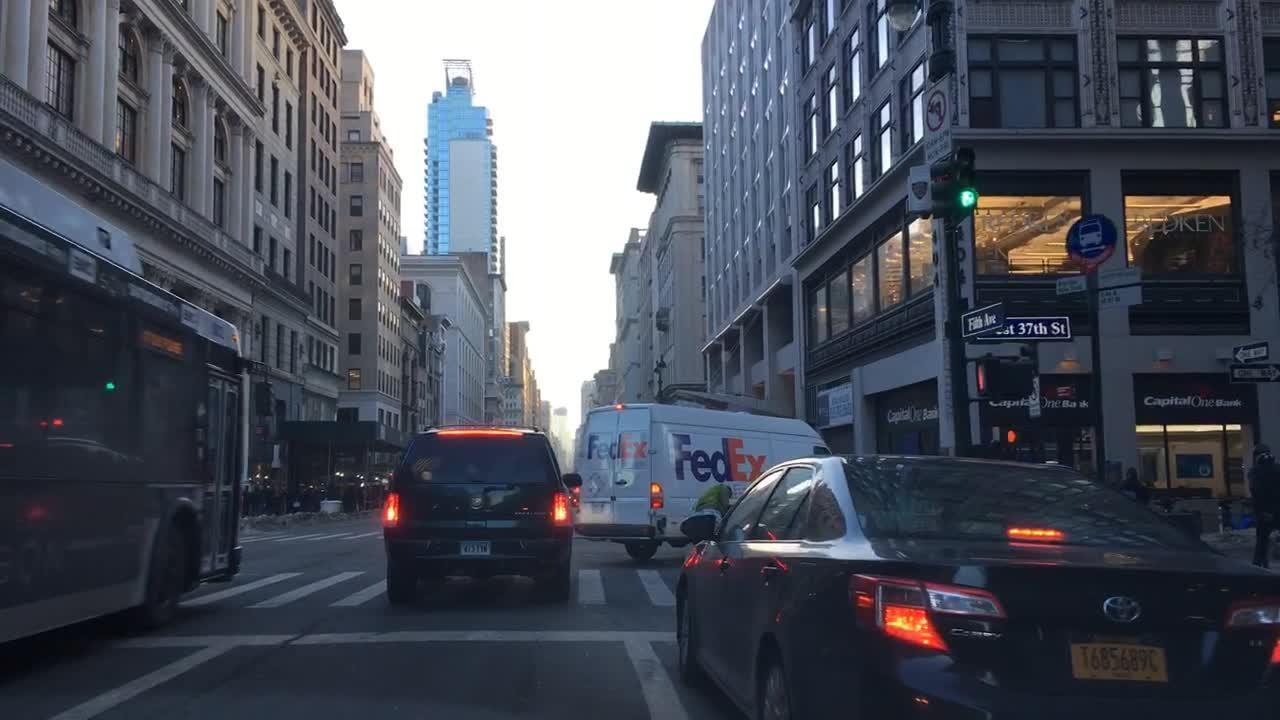Toyota: (1091, 583, 1157, 633)
cadillac: (469, 494, 486, 508)
